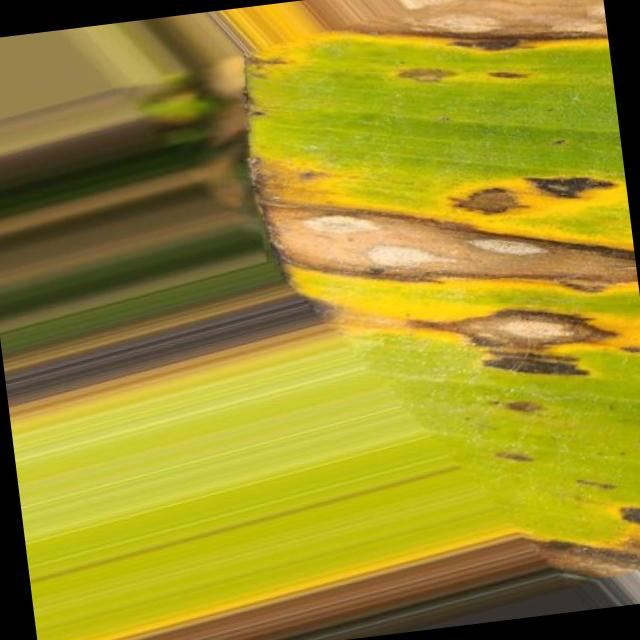Banana_Black_Sigatoka: (228, 0, 640, 427)
